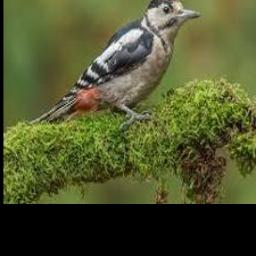Woodpecker: (31, 0, 200, 126)
